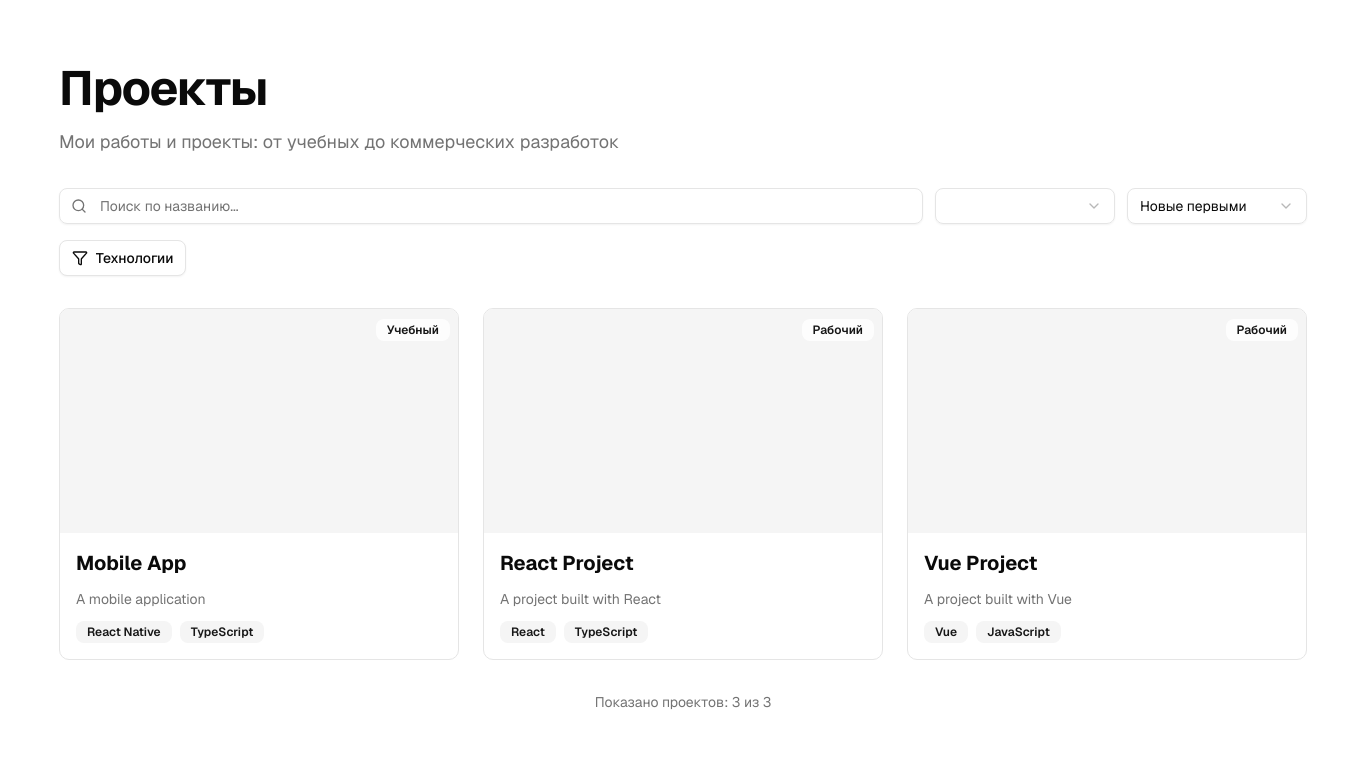
Project Filtering Integration › фильтрует проекты по поисковому запросу
Expected: the heading "React Project" is shown, [500,550,634,576]
Note: Вводим поисковый запрос
In the field with placeholder "Поиск по названию...": (491, 206) [59,188,923,224], type "React"
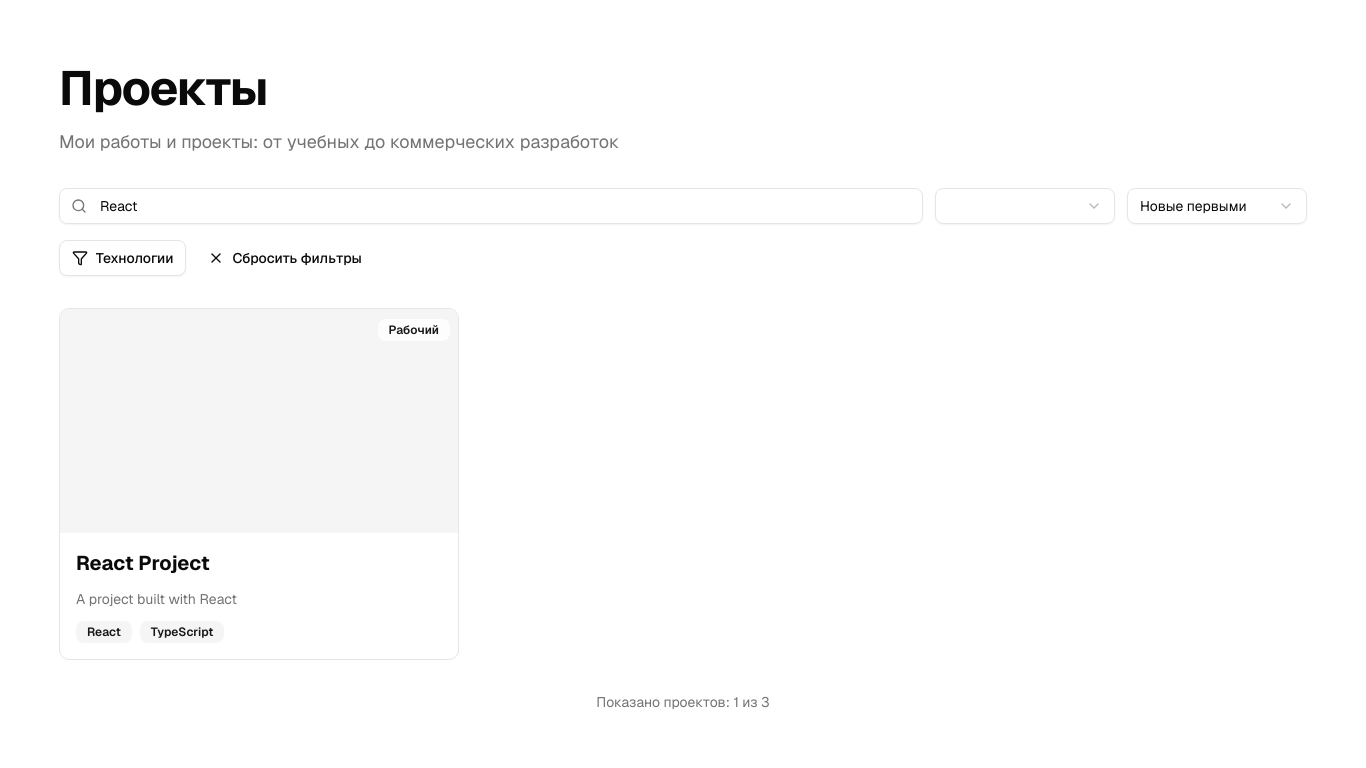
Expected: the heading "React Project" is shown, [76,550,210,576]
Result: the link "Vue Project" is gone
